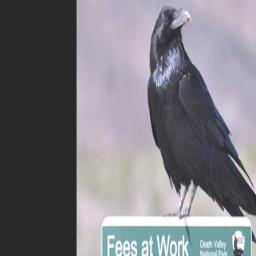Crow: (147, 3, 256, 246)
